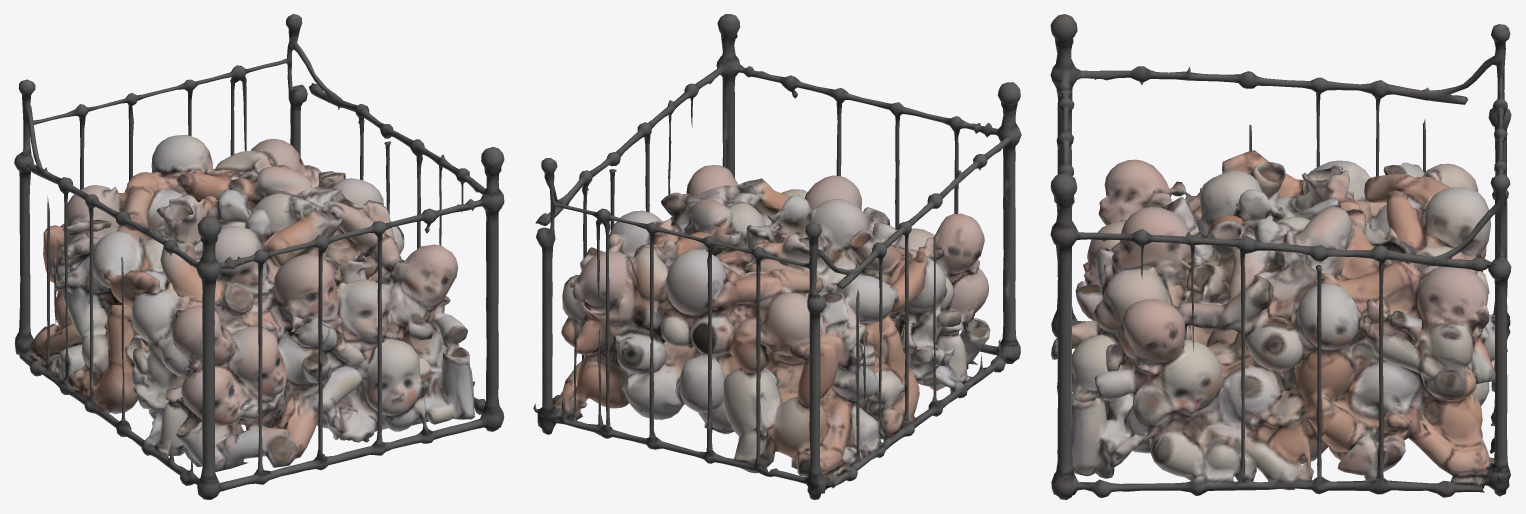
File: fenced_cradles.glb
3 renders of one model, left to right at view 1: azimuth 30°, elevation 25°; view 2: azimuth 150°, elevation 25°; view 3: azimuth 270°, elevation 25°, orthographic. The views are drawn at different scales.
Parts seen in each view (by area): view 1: Crib; view 2: Crib; view 3: Crib.
Boxes of the visible parts, x1,y1,x2,y2 form: Crib: [14, 14, 504, 499]; Crib: [533, 14, 1021, 499]; Crib: [1050, 14, 1511, 499].
Bounding box in the file's own units: 0.9008 × 0.7749 × 1.
1 material, 1 textured.
